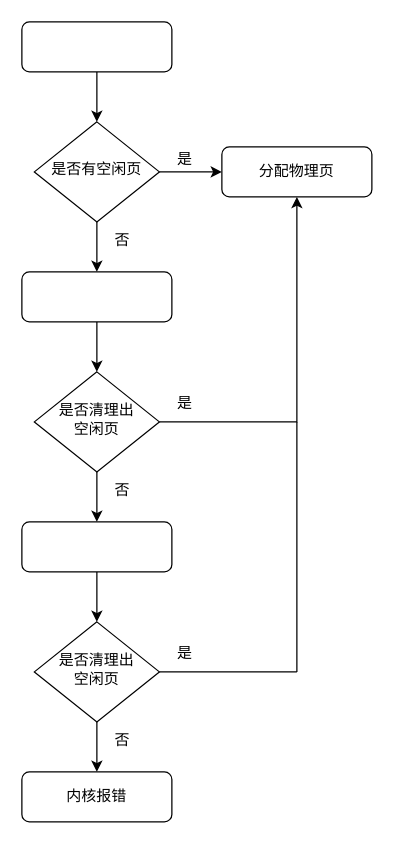
Image size: 394x844. Some labels were removed from this diagram. The shapes that lost their labels are listed below. From the top down, each one's centre as x and y in pixels, then its label:
pixel 96 46: 进入物理页管理器
pixel 96 296: 清除文件页缓存
pixel 96 546: 进程页换出
